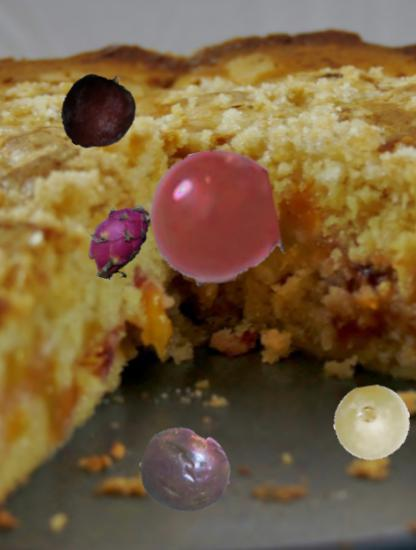Grape: (333, 384, 411, 462)
Passion: (139, 423, 234, 518)
Pitahaya: (76, 200, 156, 280)
Plum: (58, 72, 138, 152)
Redcurrant: (147, 150, 281, 284)
